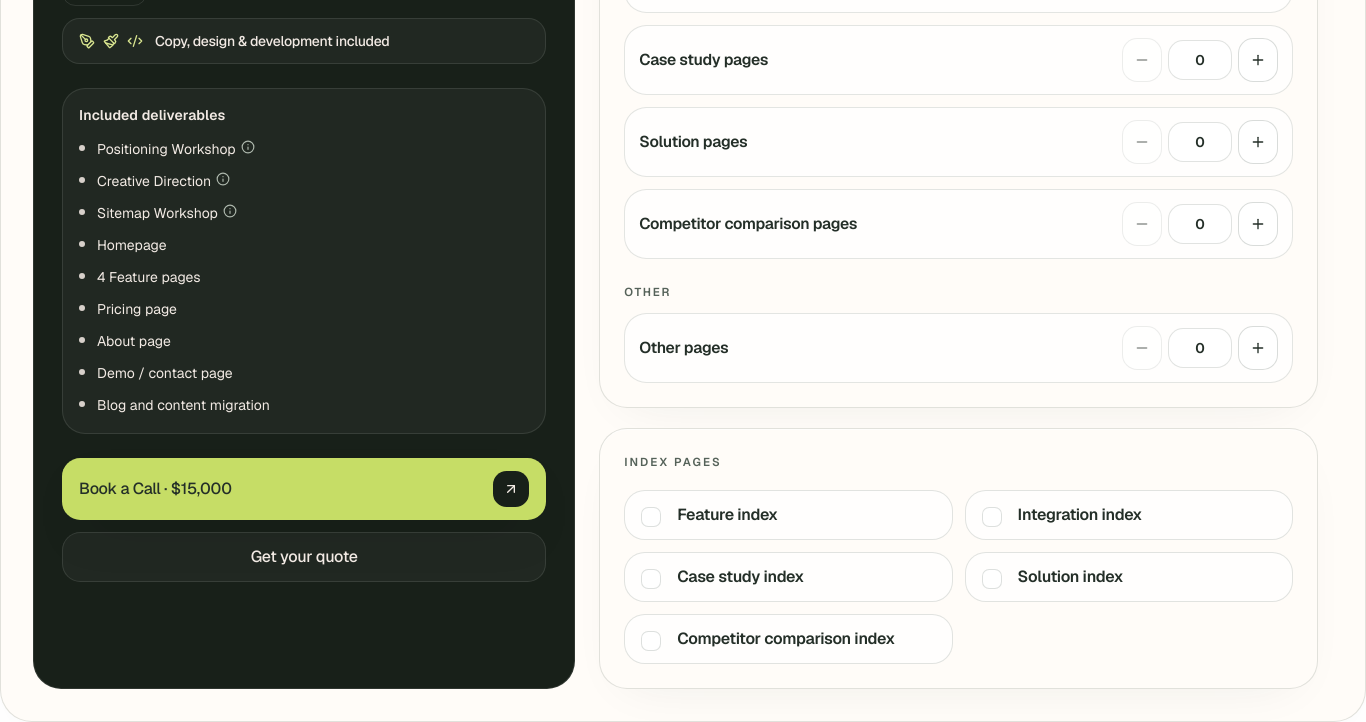
Test case: WebsiteEstimator › closes the quote panel on cancel
(page scrolled)
Click the button "Get your quote".
click(304, 557)  # box x1=62 y1=532 x2=546 y2=582
(page scrolled)
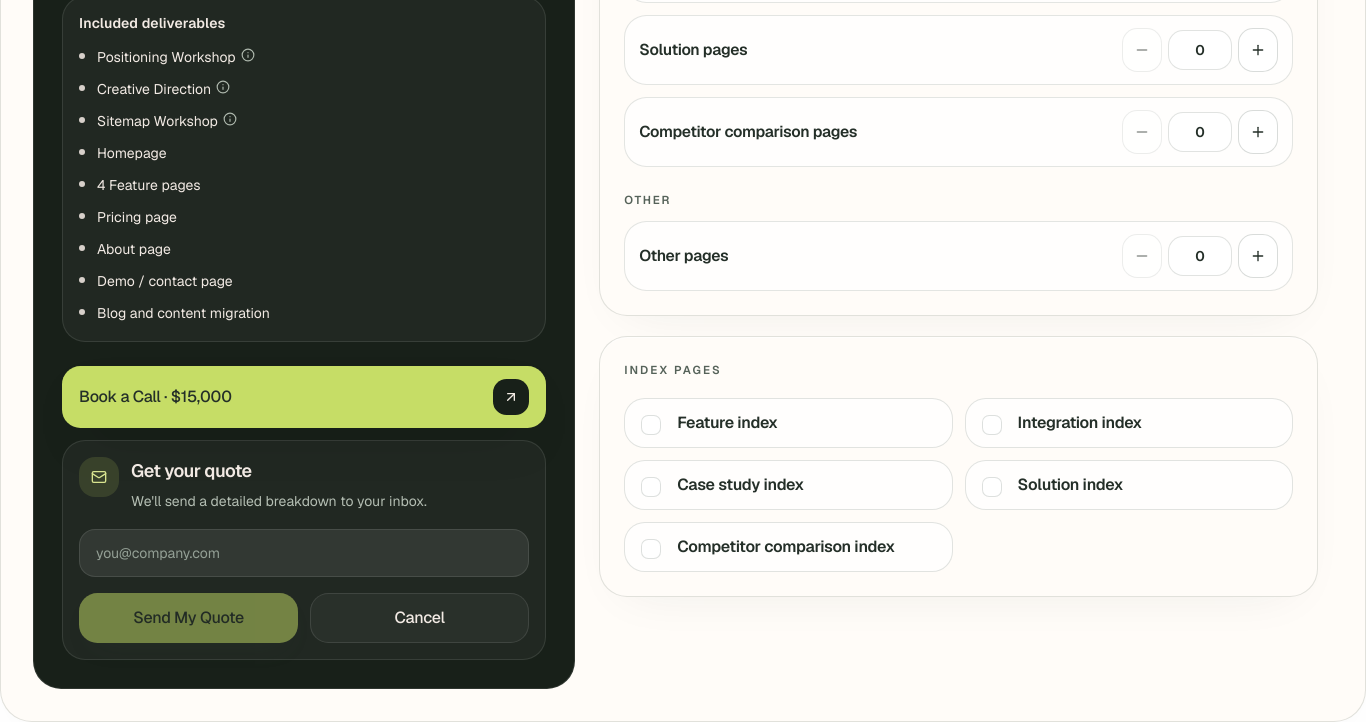
Click the button "Cancel".
click(420, 618)  # box x1=310 y1=593 x2=529 y2=643
(page scrolled)
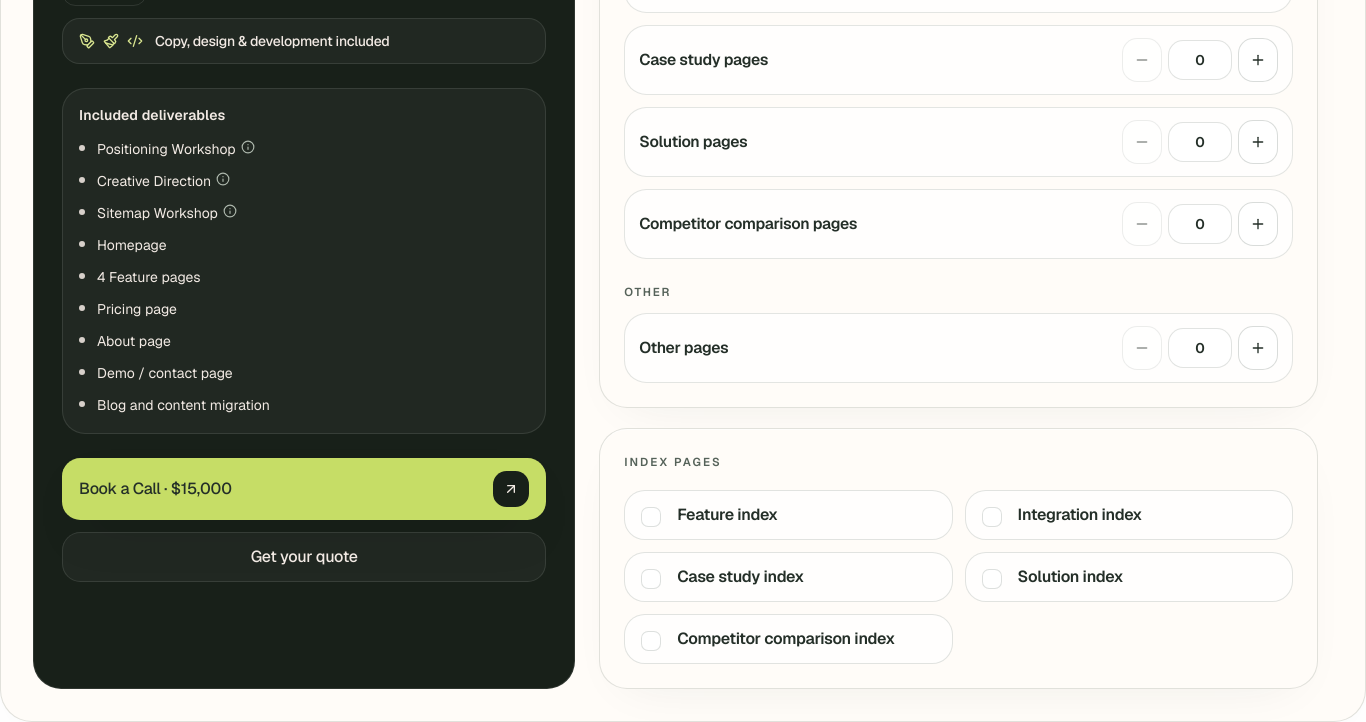
Expected: the form with test id "quote-panel" is gone
